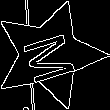M_E: (16, 25, 82, 85)
